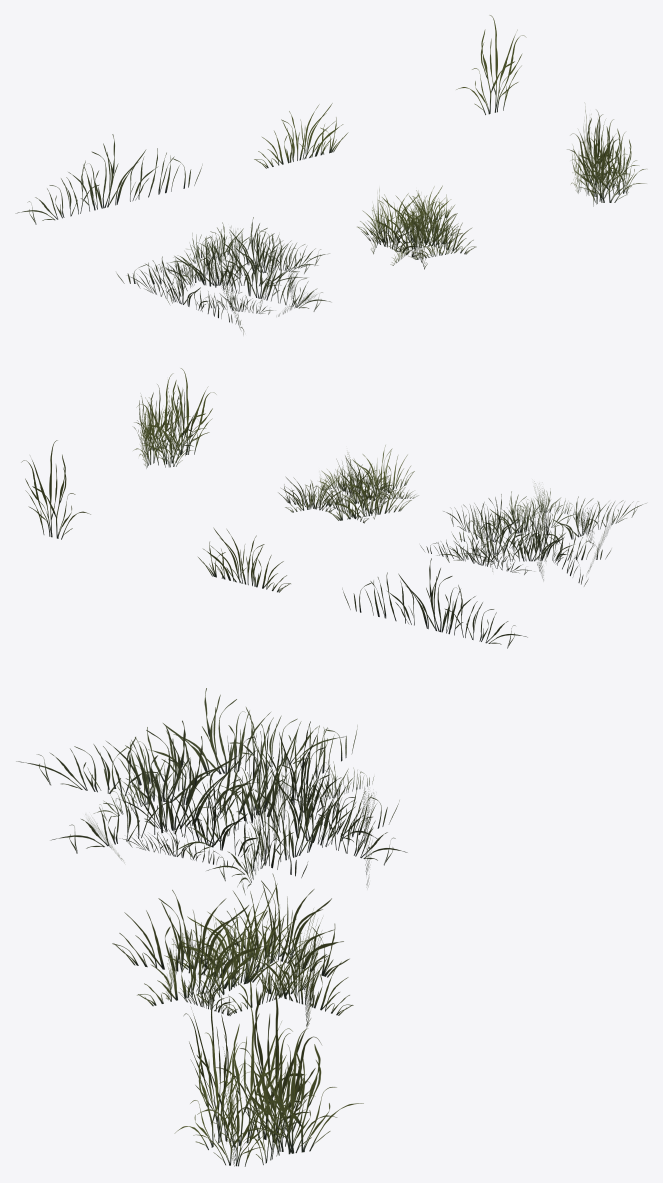
3 views of the same model, one above another, from view 1: azimuth 30°, elevation 25°; view 2: azimuth 150°, elevation 25°; view 3: azimuth 270°, elevation 25° (orthographic). The views are drawn at different scales.
Visible parts, largest first — view 1: grass1_4, grass2_3, grass3_5, 2dgrass1_2, 2dgrass2_0, 2dgrass3_1; view 2: grass1_4, grass2_3, grass3_5, 2dgrass1_2, 2dgrass2_0, 2dgrass3_1; view 3: grass1_4, grass2_3, grass3_5.
Boxes of the visible parts, x1,y1,x2,y2 form: grass1_4: [116, 217, 331, 334]; grass2_3: [357, 185, 476, 269]; grass3_5: [567, 106, 645, 206]; 2dgrass1_2: [15, 134, 202, 224]; 2dgrass2_0: [254, 103, 348, 168]; 2dgrass3_1: [456, 15, 526, 114]; grass1_4: [420, 481, 646, 586]; grass2_3: [278, 445, 418, 523]; grass3_5: [133, 368, 216, 468]; 2dgrass1_2: [342, 558, 527, 648]; 2dgrass2_0: [198, 527, 290, 592]; 2dgrass3_1: [21, 440, 90, 539]; grass1_4: [16, 688, 407, 894]; grass2_3: [112, 873, 353, 1026]; grass3_5: [174, 972, 363, 1166].
Bounding box in the file's own units: 5.42 × 1 × 3.19.
6 materials, 6 textured.
